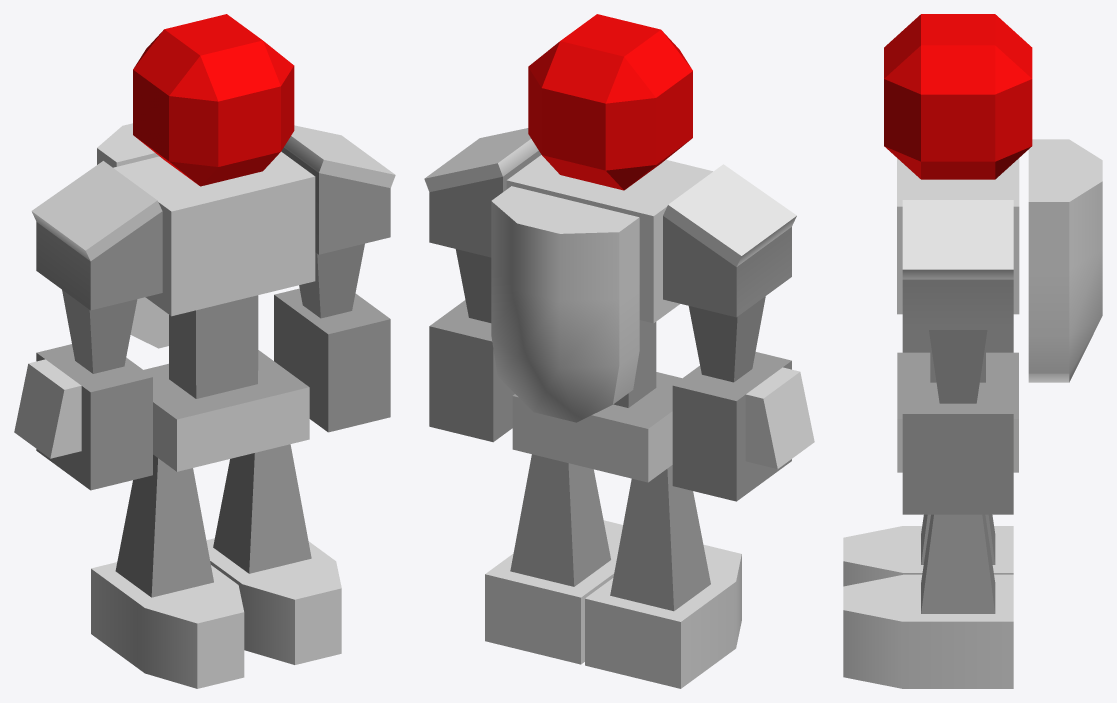
Rendered from armr_corps_drone.fbx.
The picture shows the model from 3 angles, left to right: view 1: azimuth 30°, elevation 25°; view 2: azimuth 150°, elevation 25°; view 3: azimuth 270°, elevation 25°; orthographic projection. The views are drawn at different scales.
Visible parts, largest first — view 1: Torso, Head, Shoulder_R, Foot_R, Hand_L, Foot_L, Hand_R, Leg_R, Leg_L, Shoulder_L, Grappling_Hook_Pouch, Arm_R (+2 smaller); view 2: Backpack, Head, Torso, Shoulder_R, Foot_R, Hand_R, Leg_R, Leg_L, Foot_L, Hand_L, Shoulder_L, Grappling_Hook_Pouch (+2 smaller); view 3: Head, Backpack, Foot_L, Shoulder_L, Hand_L, Torso, Leg_L, Foot_R, Arm_L, Hand_R, Leg_R.
Part boxes in pixels (left/top/right/bottom): Torso: left=113, top=151, right=315, bottom=471; Head: left=133, top=14, right=294, bottom=186; Shoulder_R: left=31, top=161, right=162, bottom=310; Foot_R: left=91, top=562, right=244, bottom=688; Hand_L: left=274, top=288, right=390, bottom=432; Foot_L: left=206, top=538, right=341, bottom=664; Hand_R: left=36, top=344, right=152, bottom=490; Leg_R: left=115, top=454, right=213, bottom=597; Leg_L: left=213, top=444, right=311, bottom=573; Shoulder_L: left=281, top=125, right=395, bottom=254; Grappling_Hook_Pouch: left=14, top=359, right=81, bottom=458; Arm_R: left=62, top=290, right=137, bottom=373; Backpack: left=491, top=186, right=639, bottom=422; Head: left=528, top=14, right=692, bottom=190; Torso: left=506, top=155, right=712, bottom=482; Shoulder_R: left=663, top=164, right=796, bottom=317; Foot_R: left=585, top=544, right=741, bottom=688; Hand_R: left=672, top=352, right=791, bottom=501; Leg_R: left=610, top=465, right=710, bottom=611; Leg_L: left=510, top=454, right=610, bottom=586; Foot_L: left=485, top=520, right=622, bottom=664; Hand_L: left=429, top=300, right=514, bottom=442; Shoulder_L: left=424, top=128, right=541, bottom=257; Grappling_Hook_Pouch: left=745, top=367, right=814, bottom=468; Head: left=884, top=14, right=1032, bottom=179; Backpack: left=1028, top=139, right=1102, bottom=382; Foot_L: left=843, top=574, right=1013, bottom=688; Shoulder_L: left=902, top=200, right=1013, bottom=329; Hand_L: left=902, top=382, right=1013, bottom=514; Torso: left=897, top=158, right=1019, bottom=472; Leg_L: left=921, top=514, right=995, bottom=613; Foot_R: left=843, top=526, right=1013, bottom=586; Arm_L: left=929, top=330, right=987, bottom=403; Hand_R: left=902, top=330, right=1013, bottom=352; Leg_R: left=921, top=514, right=995, bottom=564.
Size of the model in its own units: 2.69 by 4.55 by 1.75.
